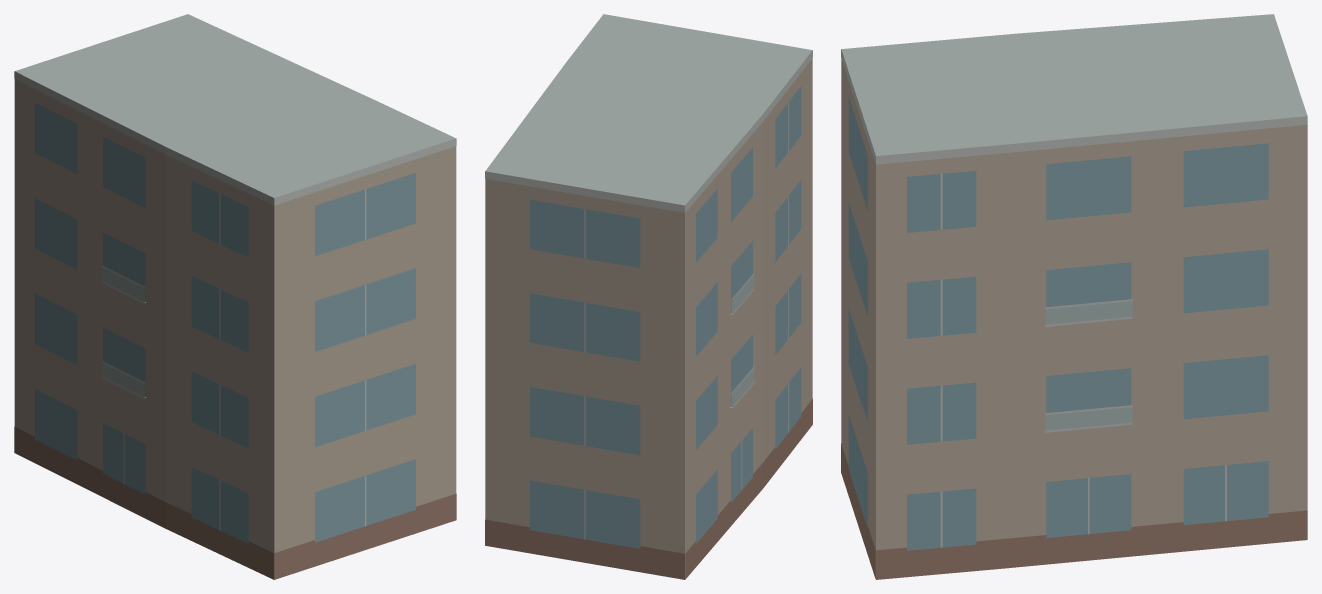
File: survey-upis-32896864.glb
The picture shows the model from 3 angles, left to right: view 1: azimuth 30°, elevation 25°; view 2: azimuth 150°, elevation 25°; view 3: azimuth 270°, elevation 25°; orthographic projection. The views are drawn at different scales.
Parts seen in each view (by area): view 1: survey-upis-32896864.tmp; view 2: survey-upis-32896864.tmp; view 3: survey-upis-32896864.tmp.
Boxes of the visible parts, x1,y1,x2,y2 form: survey-upis-32896864.tmp: (14, 14, 456, 579); survey-upis-32896864.tmp: (485, 14, 812, 579); survey-upis-32896864.tmp: (841, 14, 1307, 579).
Bounding box in the file's own units: 8.79 × 12.2 × 12.18.
